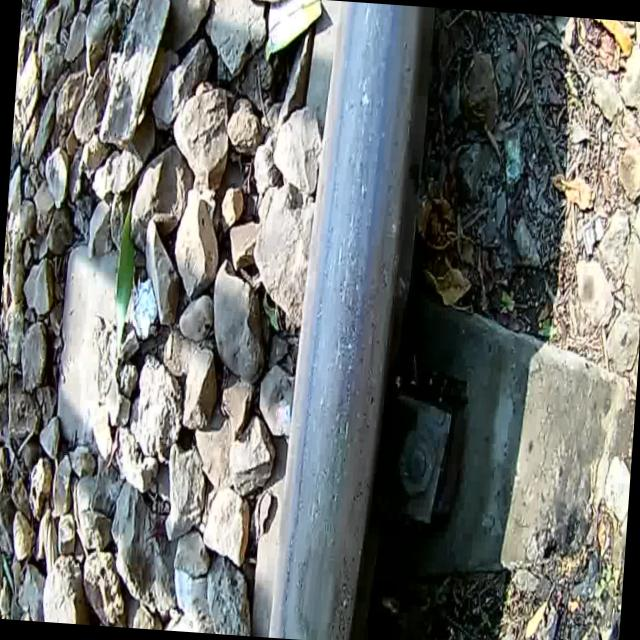Squats: (255, 515, 382, 640)
